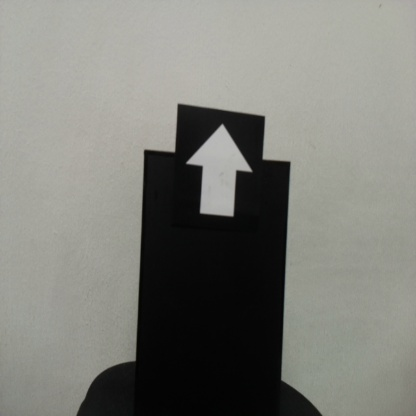id_1: (178, 108, 262, 238)
